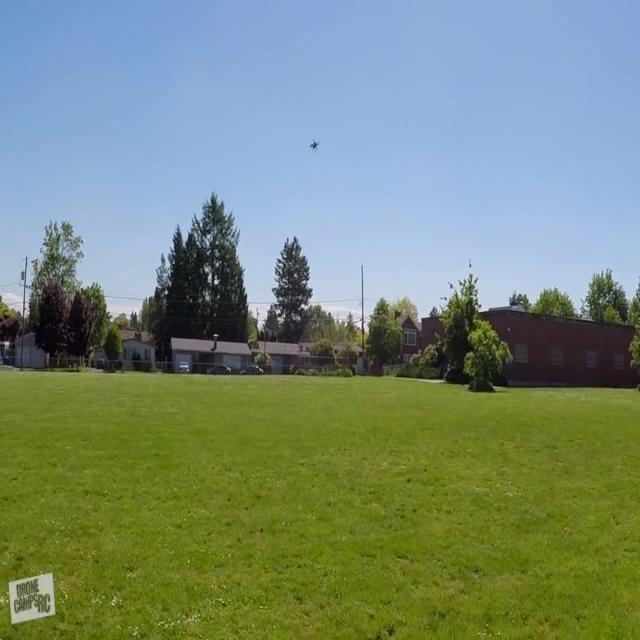drone: (308, 136, 322, 155)
